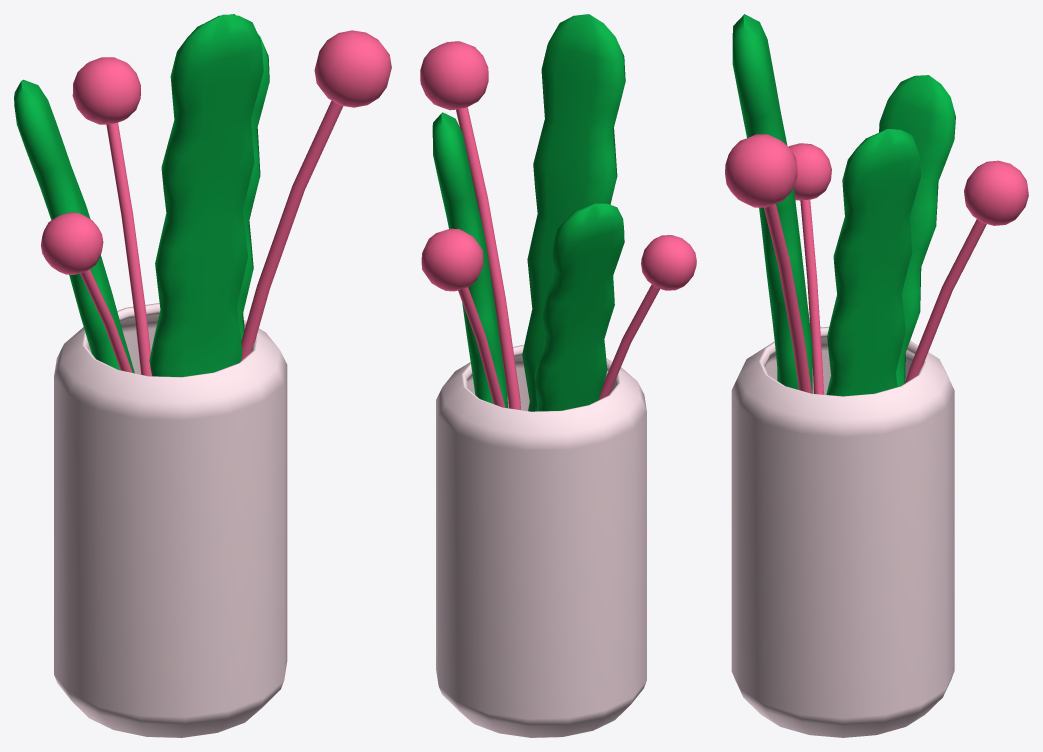
The model's file is Town_3_Vase_with_plant_1.glb.
3 renders of one model, left to right at view 1: azimuth 30°, elevation 25°; view 2: azimuth 150°, elevation 25°; view 3: azimuth 270°, elevation 25°, orthographic. The views are drawn at different scales.
Parts seen in each view (by area): view 1: Town_3_Vase_with_plant_1; view 2: Town_3_Vase_with_plant_1; view 3: Town_3_Vase_with_plant_1.
Part boxes in pixels (bbox=[...]): Town_3_Vase_with_plant_1: bbox=[14, 14, 391, 737]; Town_3_Vase_with_plant_1: bbox=[420, 14, 696, 737]; Town_3_Vase_with_plant_1: bbox=[725, 14, 1028, 737].
Bounding box in the file's own units: 0.291 × 0.6323 × 0.2532.
1 material, 1 textured.
